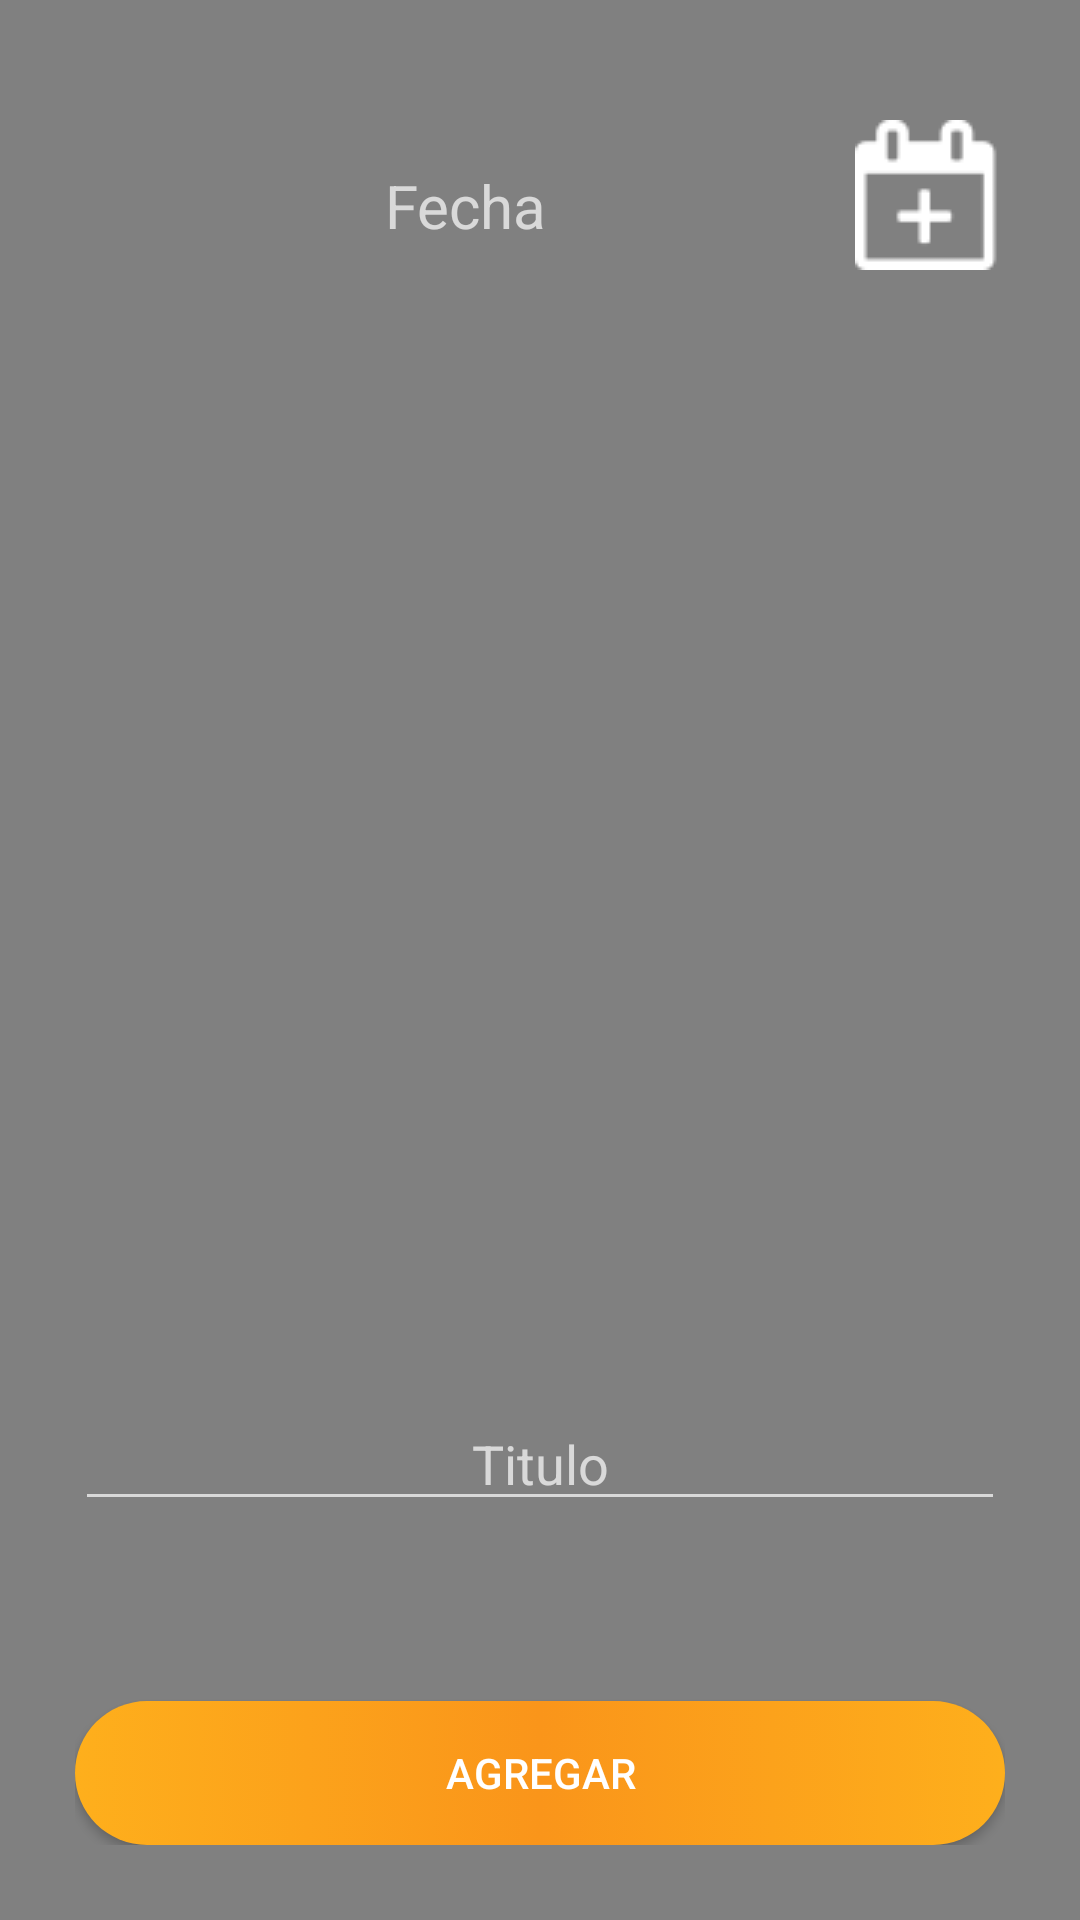

Screen size 1080px×1920px. Icon name, then its box in pixels as (x1, y1, x2, y2):
calendar: (855, 120, 996, 270)
